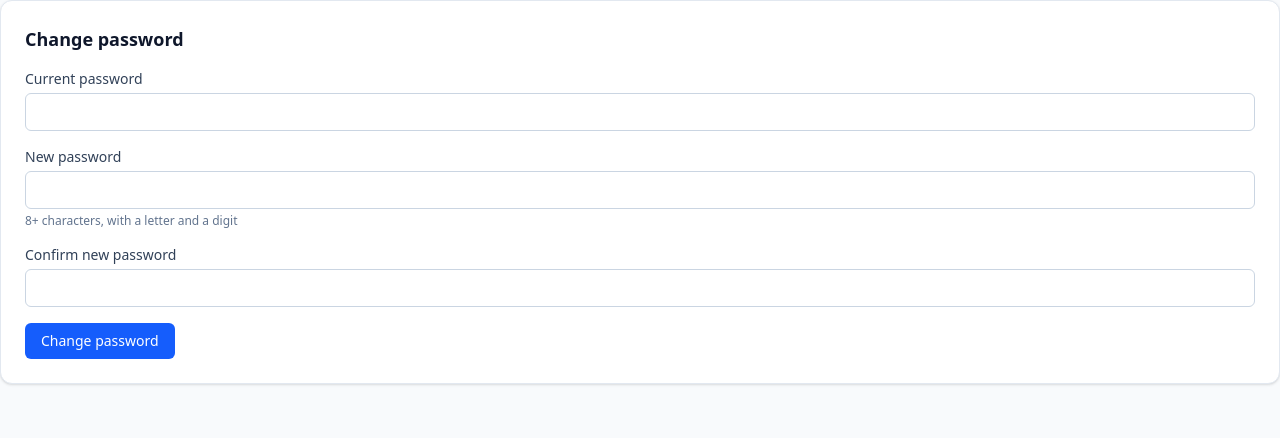
Test: ChangePasswordForm › changes the password, confirms, and clears every field
Type "Passw0rd!" into the password field labelled "Current password".
click(640, 112); type("Passw0rd!")  # box x1=25 y1=93 x2=1255 y2=131
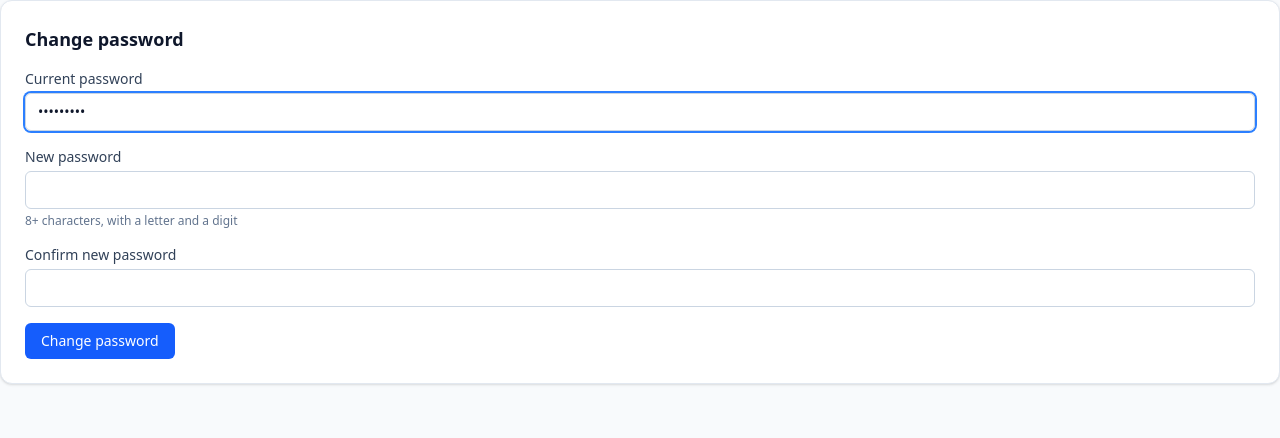
Type "N3wPassword!" into the password field labelled "New password".
click(640, 190); type("N3wPassword!")  # box x1=25 y1=171 x2=1255 y2=209
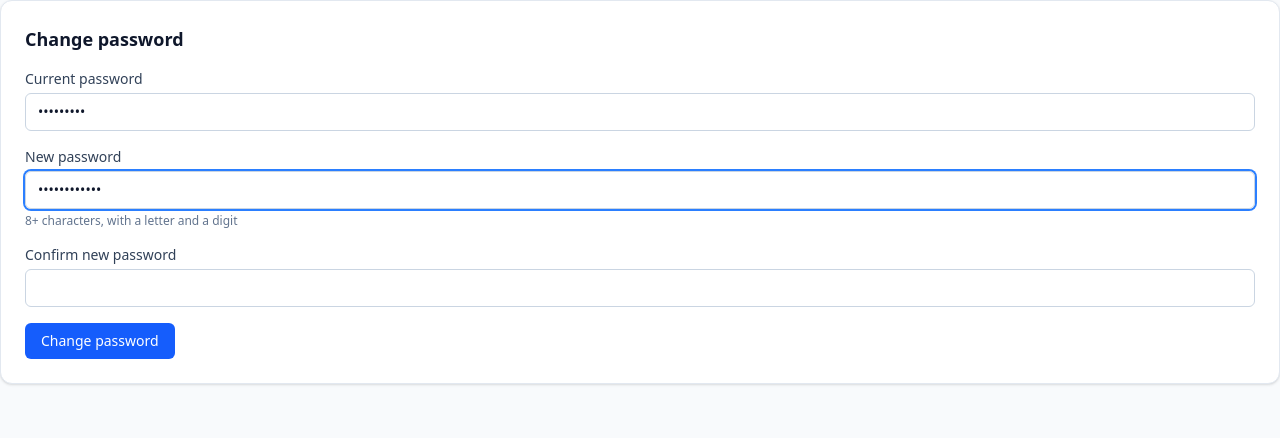
Type "N3wPassword!" into the password field labelled "Confirm new password".
click(640, 288); type("N3wPassword!")  # box x1=25 y1=269 x2=1255 y2=307
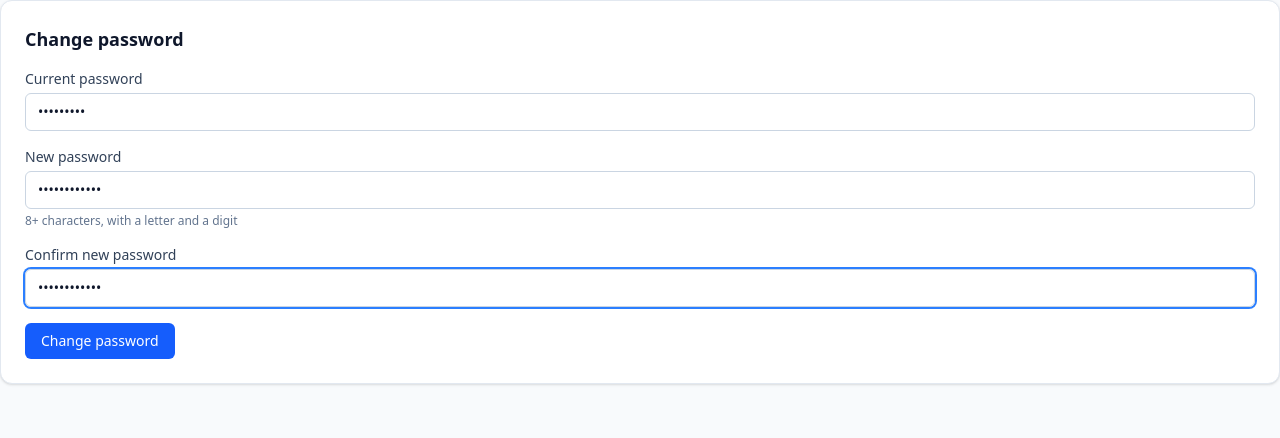
Click the button "Change password".
click(100, 341)  # box x1=25 y1=323 x2=175 y2=359
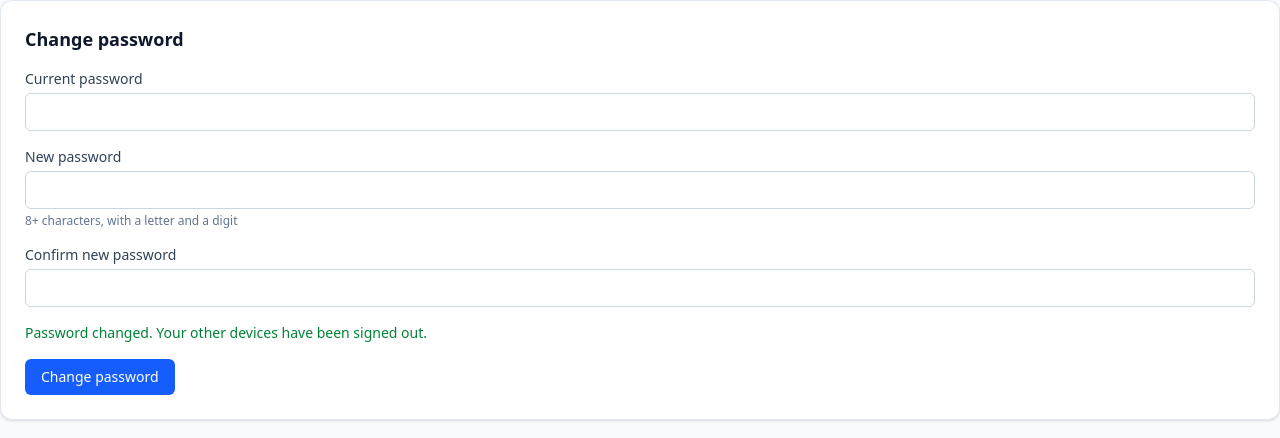
Result: the message shows "other devices have been signed out" at x1=25 y1=323 x2=427 y2=342
Result: the password field labelled "Current password" is empty at x1=25 y1=93 x2=1255 y2=131
Result: the password field labelled "New password" is empty at x1=25 y1=171 x2=1255 y2=209
